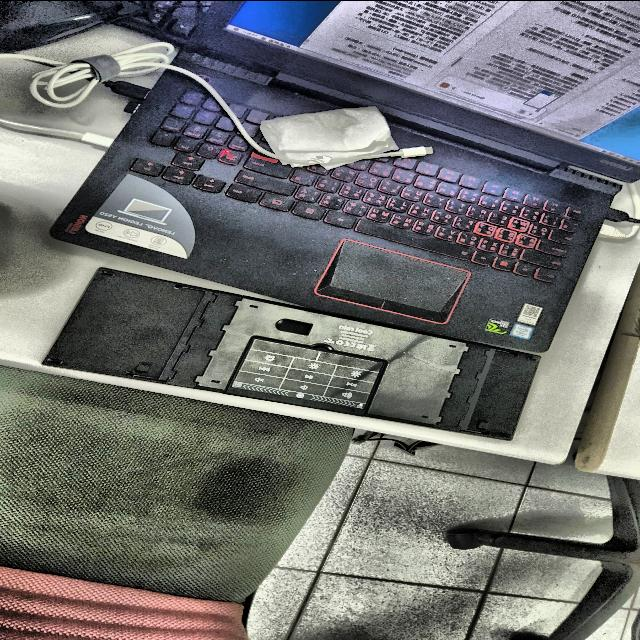Keyboard: (44, 270, 540, 438)
Laptop: (51, 0, 640, 352)
